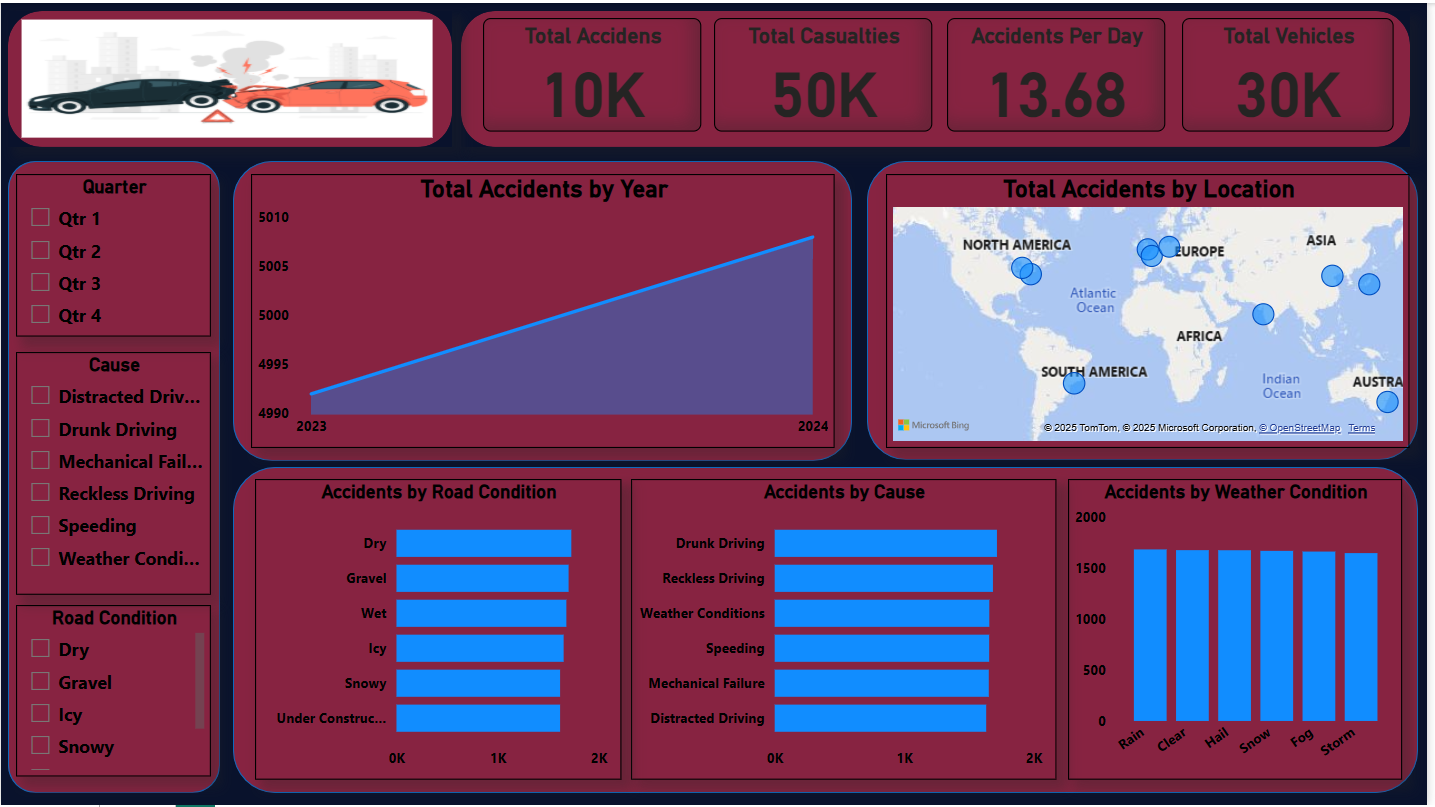

This screenshot's page, from the dashboard's own definition file:
{"tool":"powerbi","page":{"name":"Page 1","canvas":[1280,720],"ordinal":0},"visuals":[{"type":"shape","box":[6.3,141.8,190.3,567.4],"z":0},{"type":"shape","box":[208.3,416.6,1063.8,292.7],"z":1000},{"type":"shape","box":[777.5,141.8,494.7,268.4],"z":2000},{"type":"shape","box":[208.3,141.8,555.7,269.3],"z":3000},{"type":"shape","box":[413,7.2,852,122.1],"z":4000},{"type":"card","title":"Total Accidens","fields":{"Values":["global_traffic_accidents.#Total_Accidents"]},"box":[432.7,13.5,195.7,102.3],"z":5000},{"type":"card","title":"Total Casualties","fields":{"Values":["global_traffic_accidents.#Total_Casualties"]},"box":[640.1,13.5,195.7,102.3],"z":6000},{"type":"card","title":"Accidents Per Day","fields":{"Values":["global_traffic_accidents.#Accidents_Per_Day"]},"box":[849.3,13.5,195.7,102.3],"z":7000},{"type":"card","title":"Total Vehicles","fields":{"Values":["global_traffic_accidents.#Total_Vehicles_Involved"]},"box":[1060.2,13.5,190.3,102.3],"z":8000},{"type":"map","title":"Total Accidents by Location","fields":{"Category":["global_traffic_accidents.Location"],"Size":["global_traffic_accidents.#Total_Accidents"]},"box":[794.5,153.5,470.4,246],"z":9000},{"type":"barChart","title":"Accidents by Cause","fields":{"Category":["global_traffic_accidents.Cause"],"Y":["global_traffic_accidents.#Total_Accidents"]},"box":[565.6,423.7,381.5,270.2],"z":10000},{"type":"columnChart","title":"Accidents by Weather Condition","fields":{"Category":["global_traffic_accidents.Weather Condition"],"Y":["global_traffic_accidents.#Total_Accidents"]},"box":[957.9,427.3,299.9,270.2],"z":11000},{"type":"areaChart","title":"Total Accidents by Year","fields":{"Category":["global_traffic_accidents.Date.Variation.Date Hierarchy.Year","global_traffic_accidents.Date.Variation.Date Hierarchy.Quarter","global_traffic_accidents.Date.Variation.Date Hierarchy.Month","global_traffic_accidents.Date.Variation.Date Hierarchy.Day"],"Y":["global_traffic_accidents.#Total_Accidents"]},"box":[224.4,153.5,524.3,246],"z":12000},{"type":"barChart","title":"Accidents by Road Condition","fields":{"Category":["global_traffic_accidents.Road Condition"],"Y":["global_traffic_accidents.#Total_Accidents"]},"box":[228,423.7,328.6,270.2],"z":13000},{"type":"slicer","title":"Cause","fields":{"Values":["global_traffic_accidents.Cause"]},"box":[13.5,313.3,175.1,218.2],"z":14000},{"type":"slicer","title":"Road Condition","fields":{"Values":["global_traffic_accidents.Road Condition"]},"box":[13.5,540.4,175.1,153.5],"z":15000},{"type":"slicer","title":"Quarter","fields":{"Values":["global_traffic_accidents.Date.Variation.Date Hierarchy.Quarter"]},"box":[13.5,153.5,175.1,146.3],"z":15001},{"type":"shape","box":[6.3,7.2,398.6,122.1],"z":15002},{"type":"image","box":[13.5,9.9,378.9,115.8],"z":15003}]}

Visuals, with their boxes in screenshot pixels (x1, y1, x2, y2), scaled from the page's 1280x720 canvas onto the 1435x807 screenshot:
shape: [left=7, top=159, right=220, bottom=795]
shape: [left=234, top=467, right=1426, bottom=795]
shape: [left=872, top=159, right=1426, bottom=460]
shape: [left=234, top=159, right=857, bottom=461]
shape: [left=463, top=8, right=1418, bottom=145]
"Total Accidens" card: [left=485, top=15, right=704, bottom=130]
"Total Casualties" card: [left=718, top=15, right=937, bottom=130]
"Accidents Per Day" card: [left=952, top=15, right=1172, bottom=130]
"Total Vehicles" card: [left=1189, top=15, right=1402, bottom=130]
"Total Accidents by Location" map: [left=891, top=172, right=1418, bottom=448]
"Accidents by Cause" barChart: [left=634, top=475, right=1062, bottom=778]
"Accidents by Weather Condition" columnChart: [left=1074, top=479, right=1410, bottom=782]
"Total Accidents by Year" areaChart: [left=252, top=172, right=839, bottom=448]
"Accidents by Road Condition" barChart: [left=256, top=475, right=624, bottom=778]
"Cause" slicer: [left=15, top=351, right=211, bottom=596]
"Road Condition" slicer: [left=15, top=606, right=211, bottom=778]
"Quarter" slicer: [left=15, top=172, right=211, bottom=336]
shape: [left=7, top=8, right=454, bottom=145]
image: [left=15, top=11, right=440, bottom=141]
